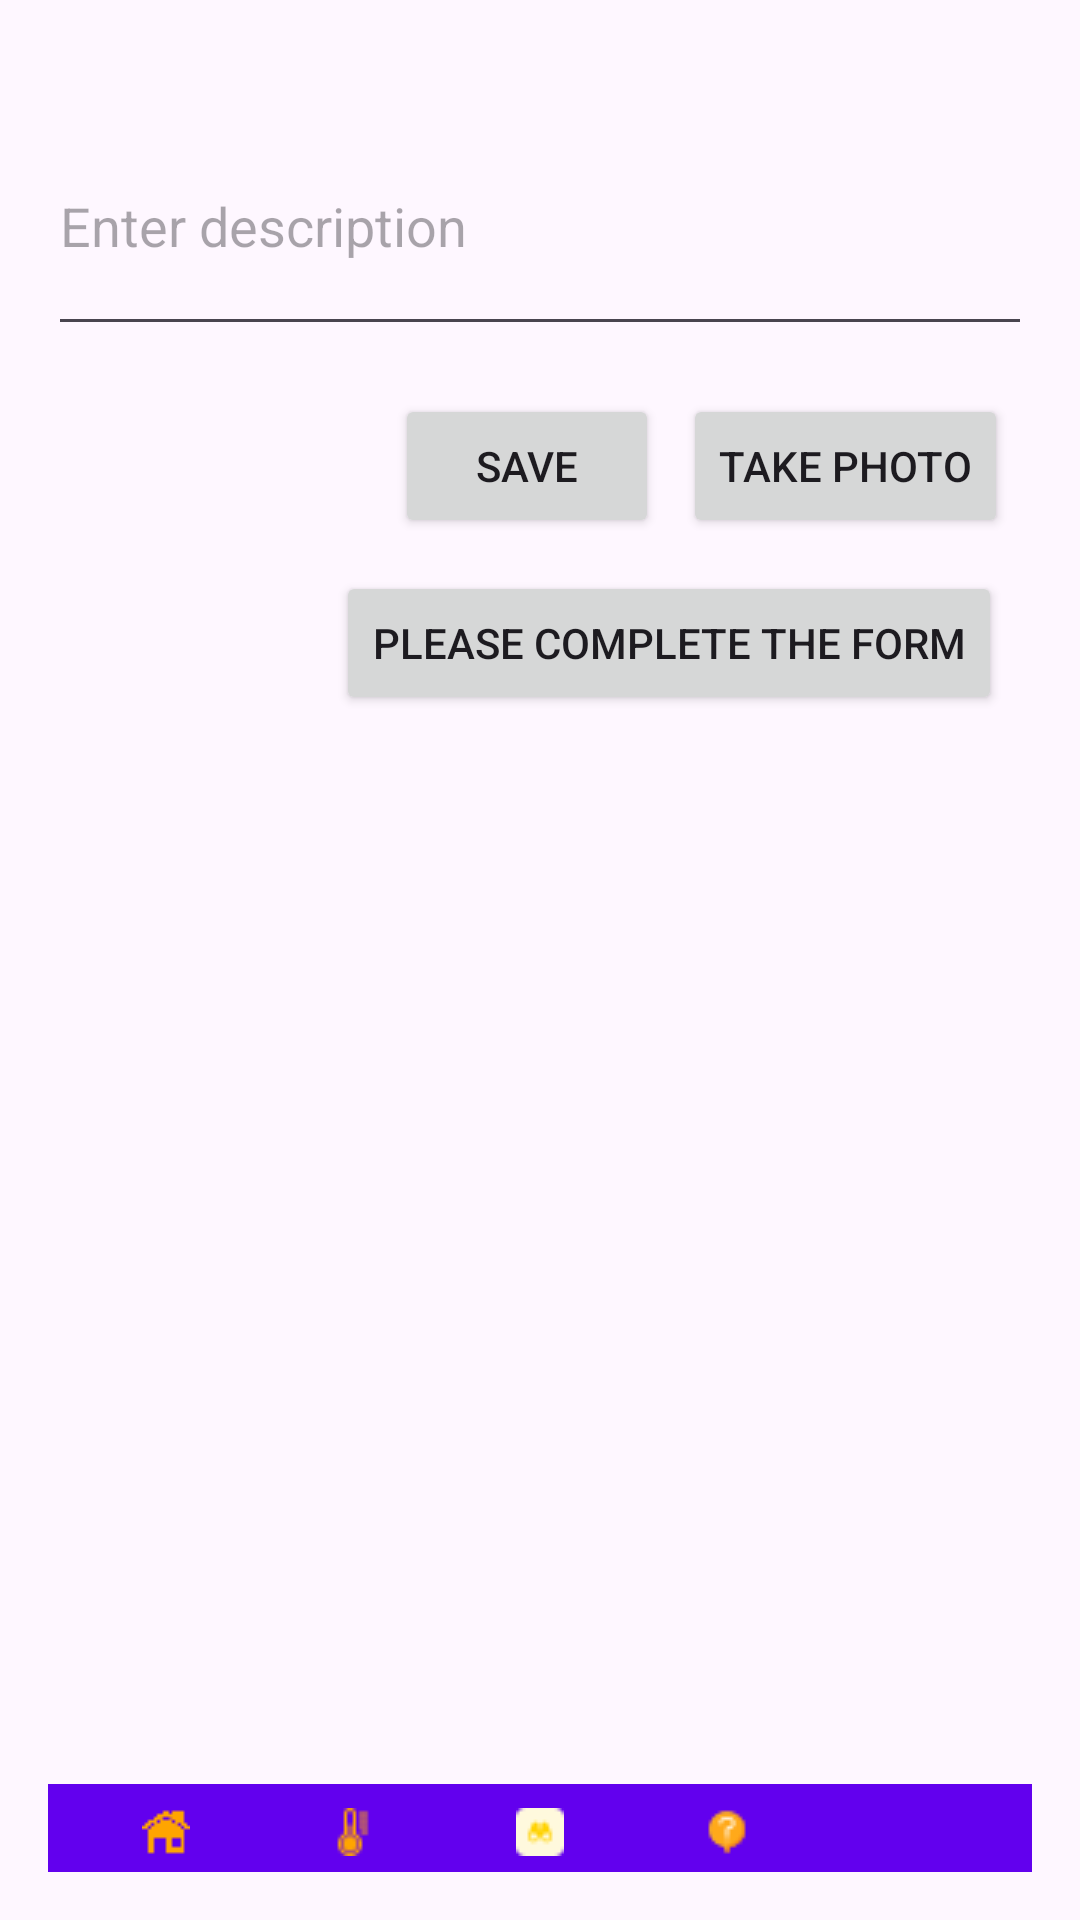

Icon bounding boxes for this 1080w x 1920h phone screenshot, format bbox=(x1, y1, x2, y2):
home: bbox=(142, 1810, 190, 1854)
pregunta: bbox=(708, 1810, 746, 1854)
